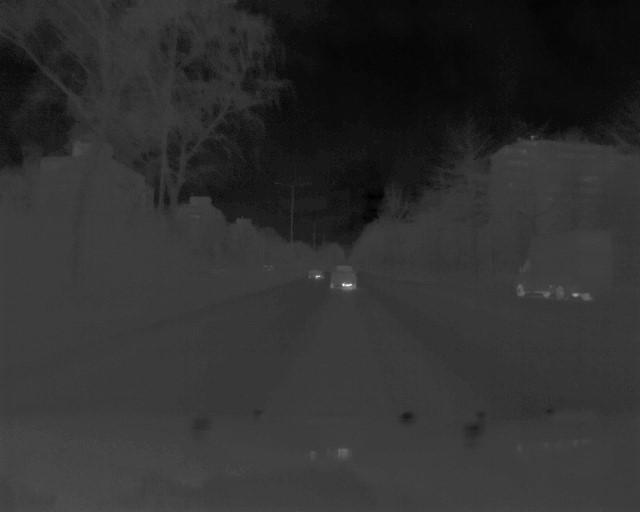car: (509, 233, 607, 302), (328, 264, 358, 292), (307, 268, 325, 281)
